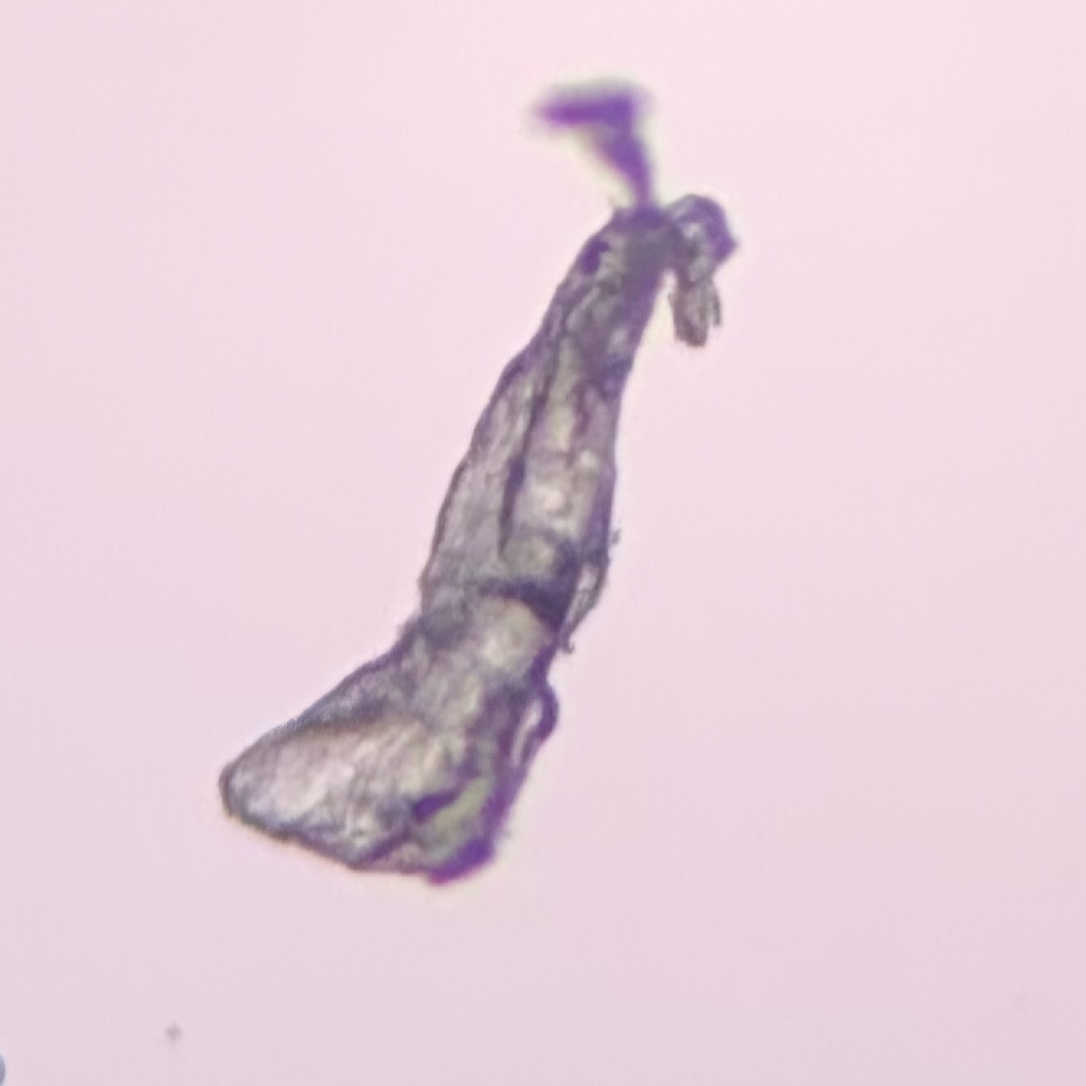microplastic: (219, 75, 738, 890)
